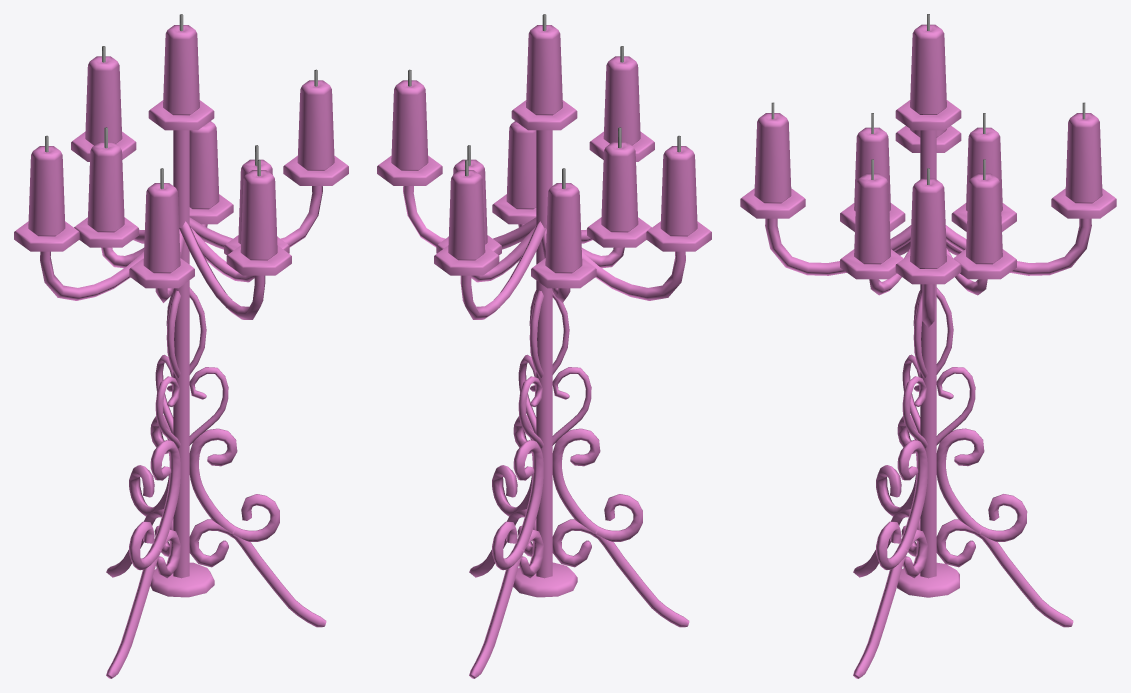
Rendered from ENV_HAU_LIGHT_MODEL.fbx.
The picture shows the model from 3 angles, left to right: view 1: azimuth 30°, elevation 25°; view 2: azimuth 150°, elevation 25°; view 3: azimuth 270°, elevation 25°; orthographic projection.
Parts seen in each view (by area): view 1: ENV_HAU_LIGHT_MODEL; view 2: ENV_HAU_LIGHT_MODEL; view 3: ENV_HAU_LIGHT_MODEL.
Boxes of the visible parts, x1,y1,x2,y2 form: ENV_HAU_LIGHT_MODEL: [14, 14, 348, 678]; ENV_HAU_LIGHT_MODEL: [377, 14, 711, 678]; ENV_HAU_LIGHT_MODEL: [740, 14, 1116, 678].
Bounding box in the file's own units: 96.79 × 178 × 99.09.
